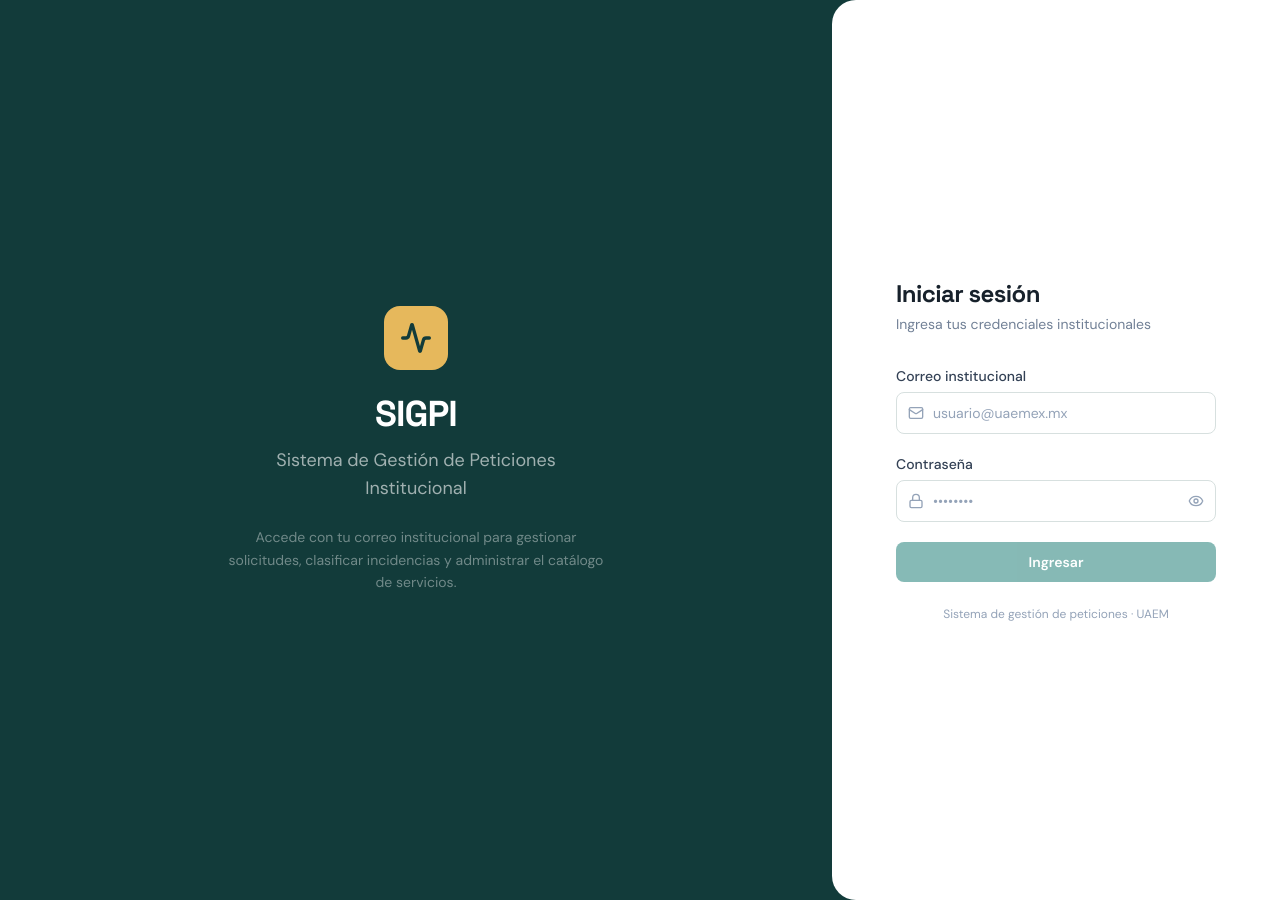
Test: LoginPage › con cuenta desactivada muestra el aviso para contactar al administrador
Step 1. Type "ana@uaemex.mx" into the field labelled "Correo institucional" → {"x": 1056, "y": 413}, box [896,392,1216,434]
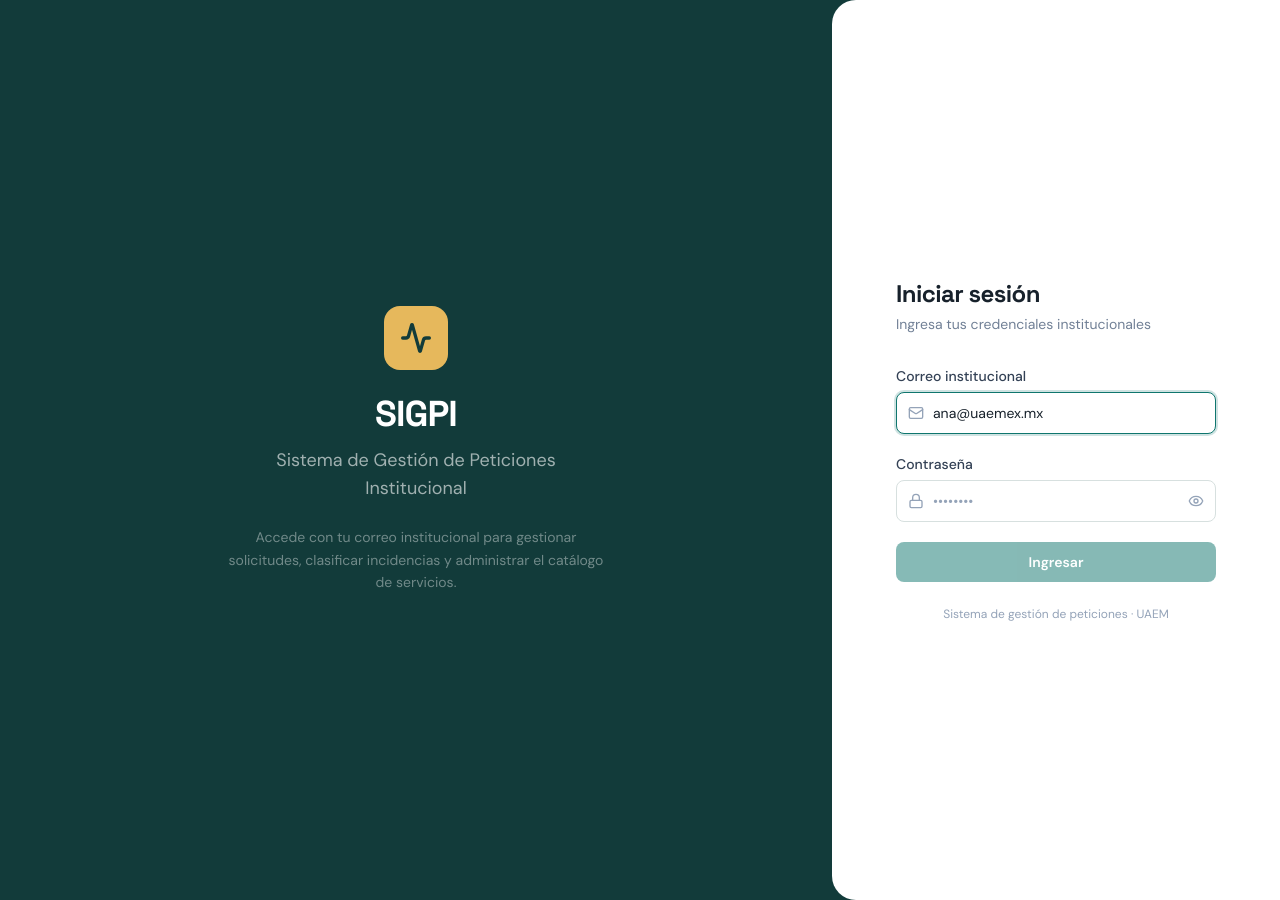
Step 2. Type "ClaveSegura#2026" into the password field labelled "Contraseña" → {"x": 1056, "y": 501}, box [896,480,1216,522]
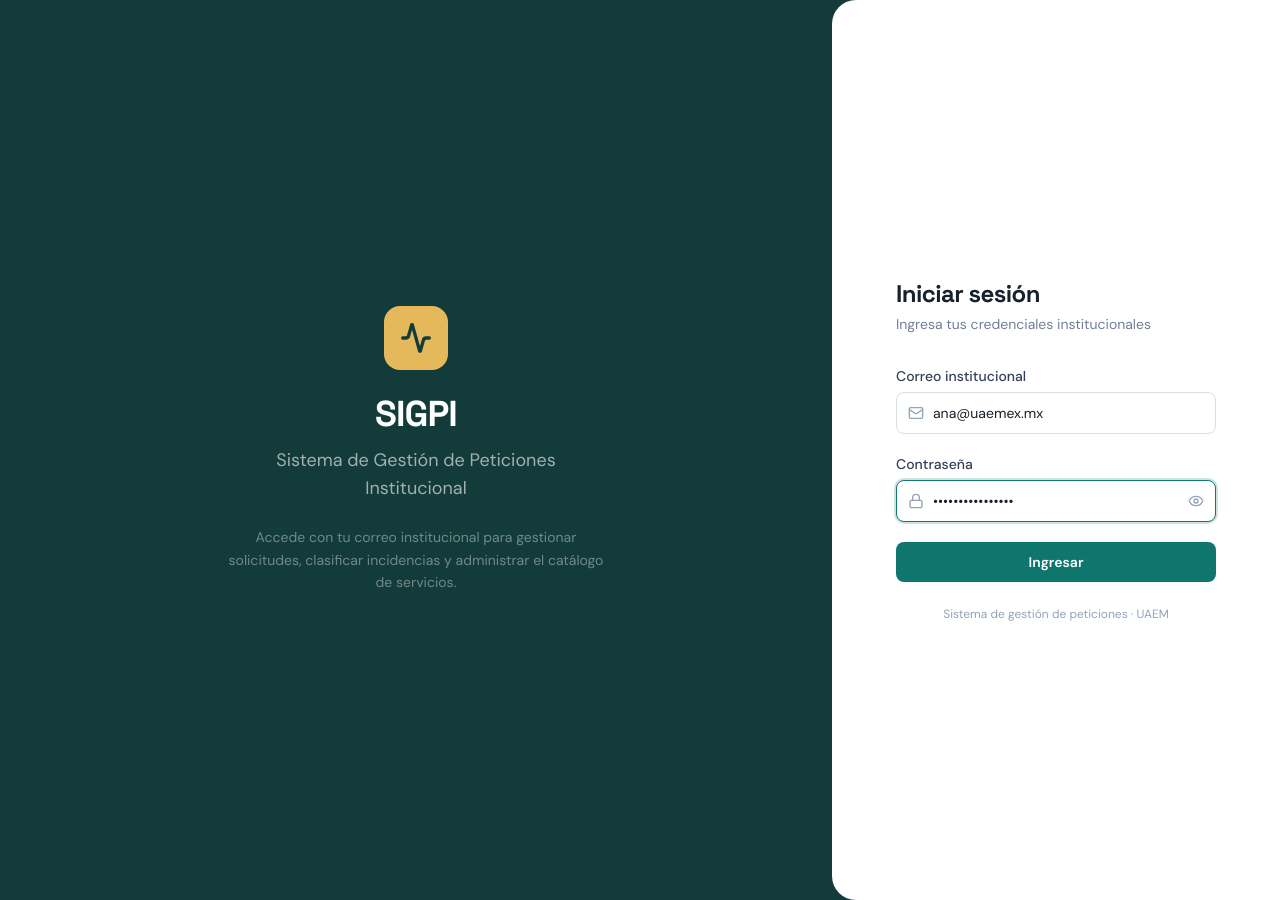
Step 3. Click the button "Ingresar" → {"x": 1056, "y": 562}, box [896,542,1216,582]
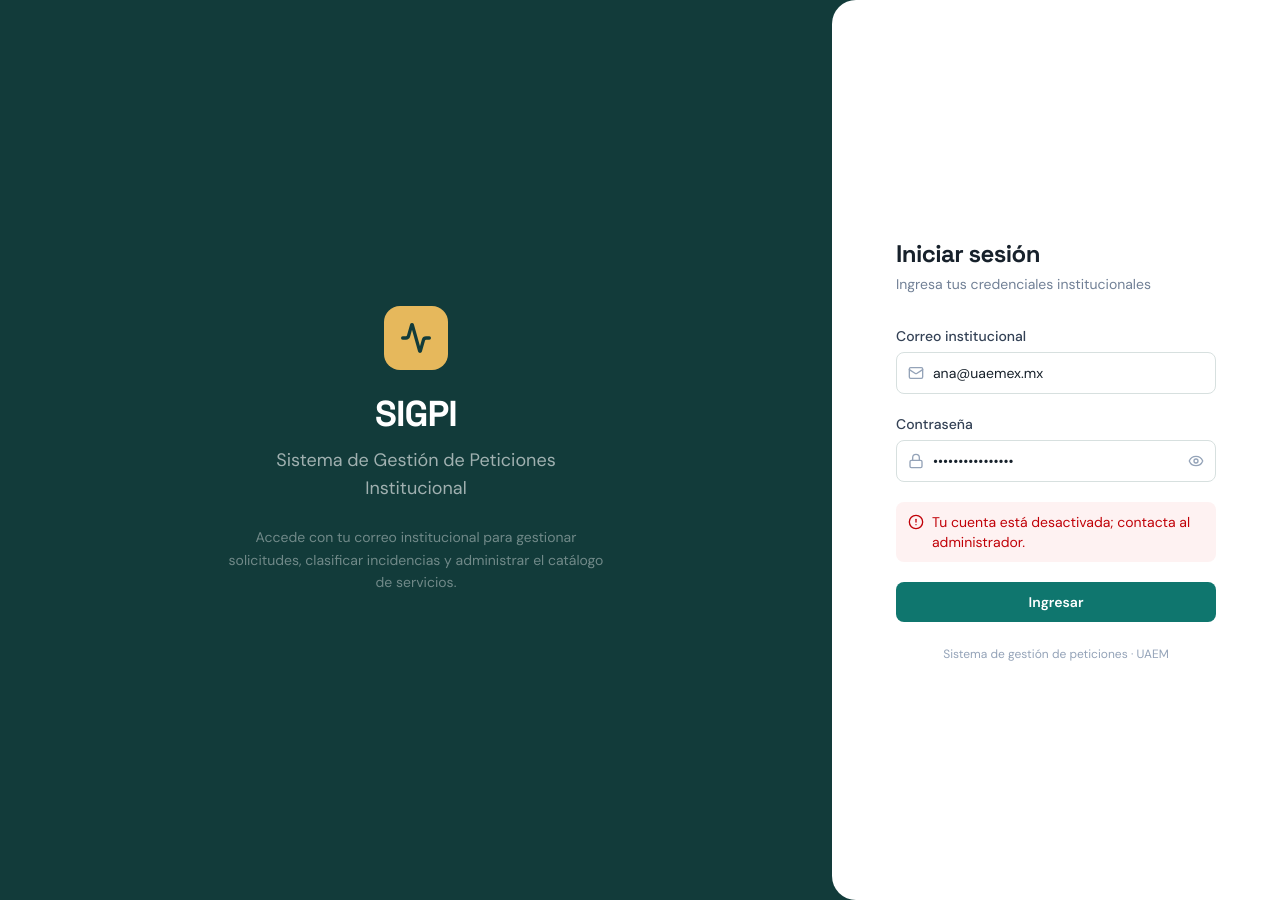
Expected: the text "Tu cuenta está desactivada; contacta al administrador." is shown, [932,512,1204,552]
